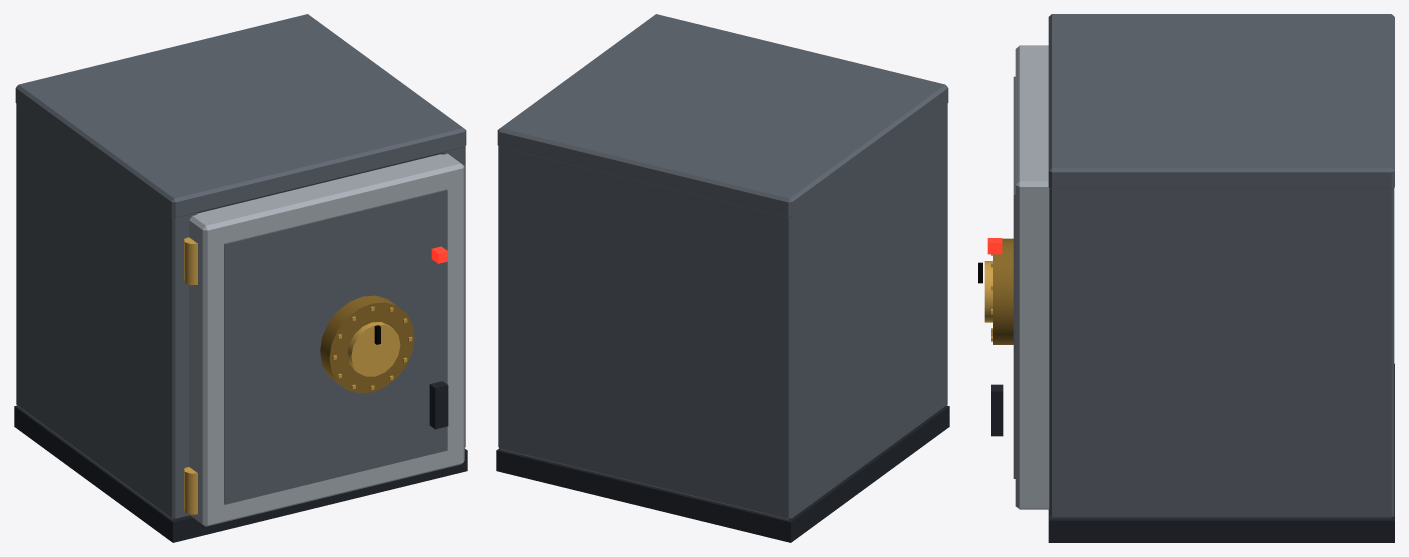
The model's file is safe_small.glb.
3 views of the same model, side by side, from view 1: azimuth 30°, elevation 25°; view 2: azimuth 150°, elevation 25°; view 3: azimuth 270°, elevation 25° (orthographic). The views are drawn at different scales.
Visible parts, largest first — view 1: safe_small, door; view 2: safe_small; view 3: safe_small, door.
Part boxes in pixels (x1=…): safe_small: x1=14, y1=14, x2=467, y2=542; door: x1=189, y1=153, x2=464, y2=526; safe_small: x1=496, y1=14, x2=949, y2=542; safe_small: x1=1048, y1=14, x2=1394, y2=542; door: x1=978, y1=45, x2=1049, y2=509.
Size of the model in its own units: 0.9 by 1 by 1.01.
